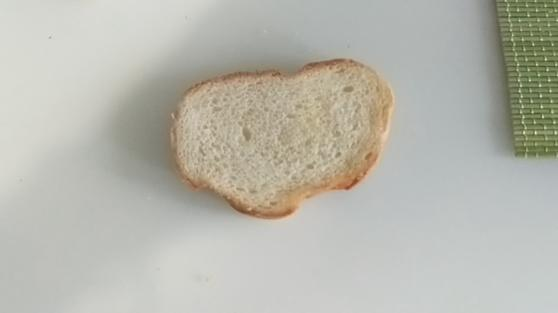white_bread: (170, 59, 393, 218)
